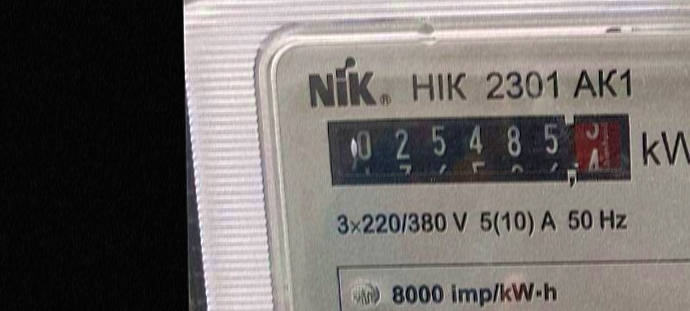0: (351, 127, 372, 163)
2: (390, 126, 410, 162)
4: (463, 122, 484, 157), (582, 146, 602, 174)
5: (538, 121, 559, 158), (426, 123, 446, 158)
8: (502, 121, 522, 160)
screen: (316, 106, 638, 198)
